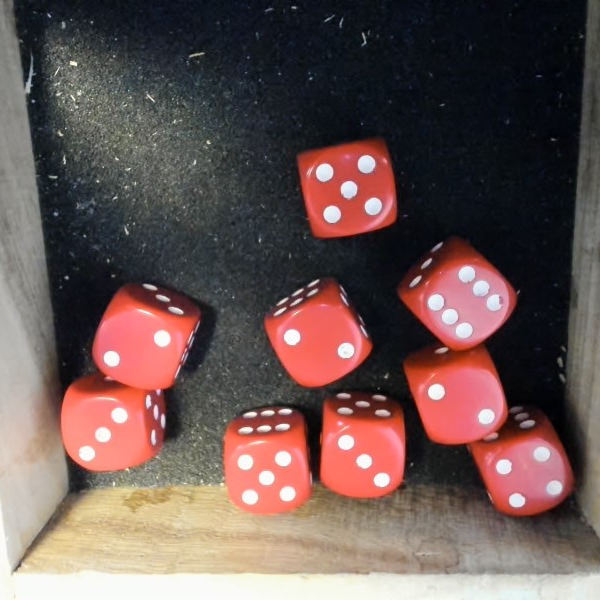red_die_pip2: (253, 266, 380, 394), (89, 271, 208, 399), (404, 336, 510, 450)
red_die_pip3: (58, 378, 166, 474), (318, 388, 404, 495)
red_die_pip4: (469, 398, 580, 527)
red_die_pip5: (212, 397, 318, 520), (291, 129, 405, 240)
red_die_pip6: (389, 225, 528, 366)
